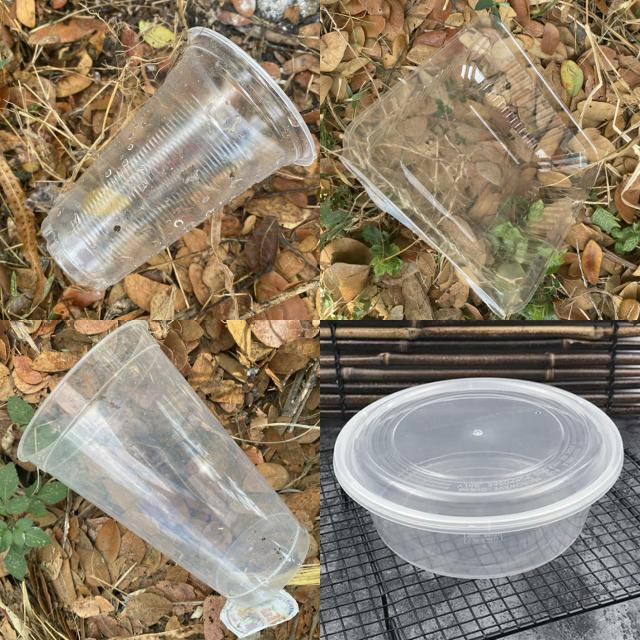Single-Use-Plastic: (19, 320, 309, 606), (341, 15, 604, 316), (41, 28, 316, 290), (334, 378, 624, 579)
